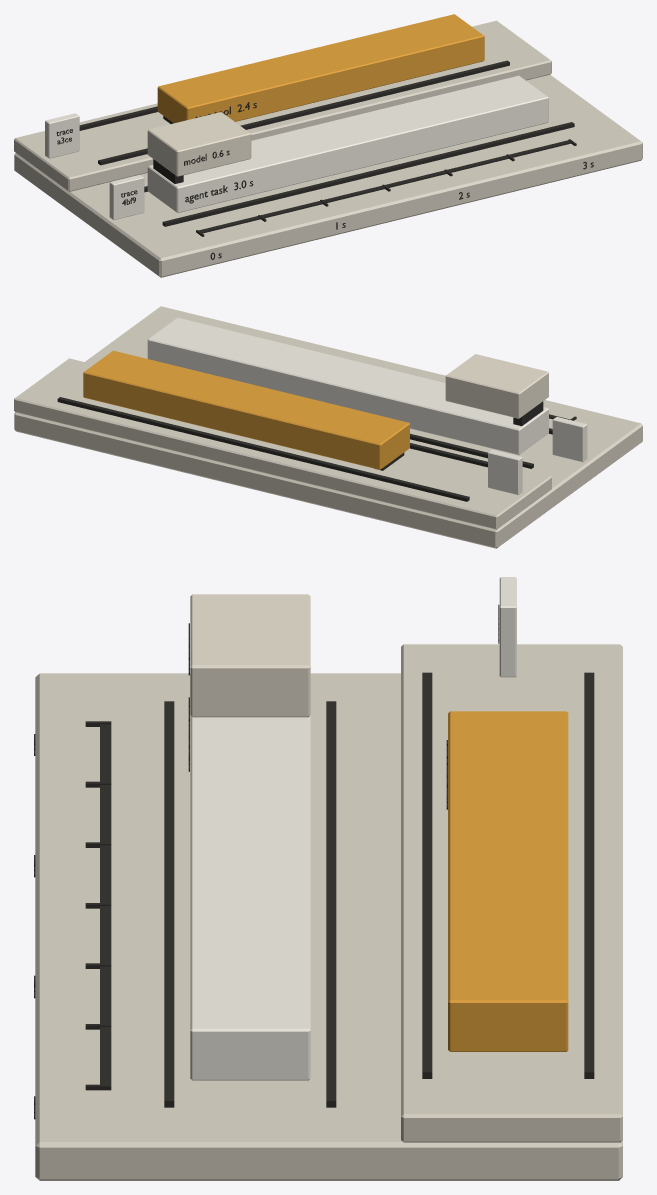
The picture shows the model from 3 angles, top to bottom: view 1: azimuth 30°, elevation 25°; view 2: azimuth 150°, elevation 25°; view 3: azimuth 270°, elevation 25°; orthographic projection. The views are drawn at different scales.
Parts seen in each view (by area): view 1: Plinth, Task_Span, Tool_Block, Back_Step, Model_Span, Lane_A_Rail_0, Lane_B_Rail_0, Ruler, Trace_A_Plaque, Trace_B_Plaque, Lane_B_Rail_1; view 2: Plinth, Back_Step, Task_Span, Tool_Block, Model_Span, Lane_B_Rail_1, Trace_A_Plaque, Trace_B_Plaque, Lane_A_Rail_1, Lane_B_Rail_0; view 3: Plinth, Back_Step, Task_Span, Tool_Block, Model_Span, Lane_A_Rail_0, Lane_A_Rail_1, Lane_B_Rail_0, Lane_B_Rail_1, Ruler, Trace_B_Plaque.
Part boxes in pixels (x1,y1,x2,y2): Plinth: (14, 74, 642, 277); Task_Span: (147, 75, 548, 212); Tool_Block: (157, 14, 484, 123); Back_Step: (14, 20, 551, 191); Model_Span: (147, 112, 251, 176); Lane_A_Rail_0: (162, 122, 574, 226); Lane_B_Rail_0: (98, 60, 509, 165); Ruler: (199, 140, 571, 233); Trace_A_Plaque: (109, 174, 144, 219); Trace_B_Plaque: (45, 113, 79, 158); Lane_B_Rail_1: (79, 106, 157, 130); Plinth: (14, 306, 642, 548); Back_Step: (14, 358, 551, 529); Task_Span: (147, 317, 548, 454); Tool_Block: (83, 350, 409, 469); Model_Span: (445, 354, 548, 418); Lane_B_Rail_1: (57, 397, 469, 501); Trace_A_Plaque: (552, 417, 587, 462); Trace_B_Plaque: (488, 449, 522, 494); Lane_A_Rail_1: (410, 433, 533, 468); Lane_B_Rail_0: (410, 443, 487, 467); Plinth: (35, 673, 622, 1180); Back_Step: (401, 644, 622, 1142); Task_Span: (190, 715, 310, 1080); Tool_Block: (448, 711, 568, 1051); Model_Span: (190, 594, 310, 717); Lane_A_Rail_0: (164, 701, 174, 1107); Lane_A_Rail_1: (326, 701, 336, 1107); Lane_B_Rail_0: (422, 672, 432, 1078); Lane_B_Rail_1: (584, 672, 594, 1078); Ruler: (100, 724, 111, 1084); Trace_B_Plaque: (499, 577, 516, 677).
Size of the model in its own units: 7.8 by 1.32 by 4.11.
